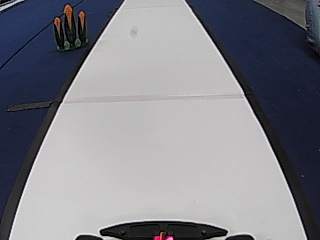corn: (52, 3, 89, 50)
